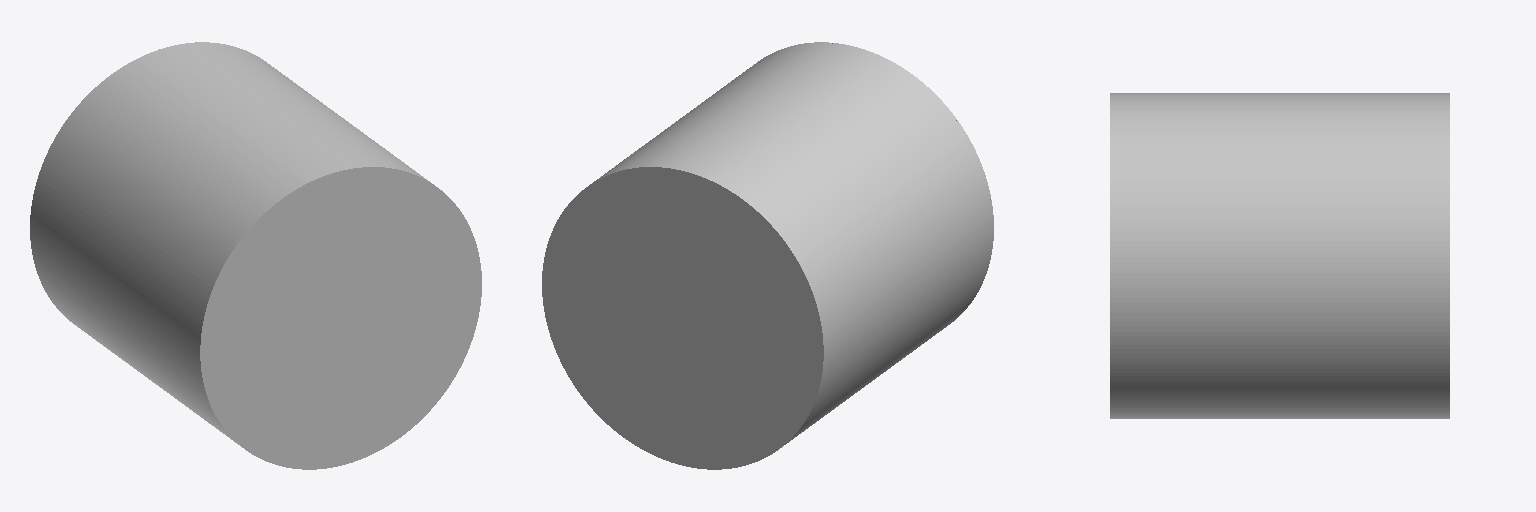
File: plane bend214.obj
The picture shows the model from 3 angles: view 1: azimuth 30°, elevation 25°; view 2: azimuth 150°, elevation 25°; view 3: azimuth 270°, elevation 25°; orthographic projection.
Parts seen in each view (by area): view 1: Plane, Circle; view 2: Plane, Circle.001; view 3: Plane.
Boxes of the visible parts, x1=… form: Plane: x1=30, y1=42, x2=429, y2=444; Circle: x1=199, y1=166, x2=481, y2=469; Plane: x1=593, y1=42, x2=992, y2=444; Circle.001: x1=542, y1=167, x2=823, y2=469; Plane: x1=1110, y1=93, x2=1449, y2=418.
Size of the model in its own units: 1.91 by 1.91 by 2.